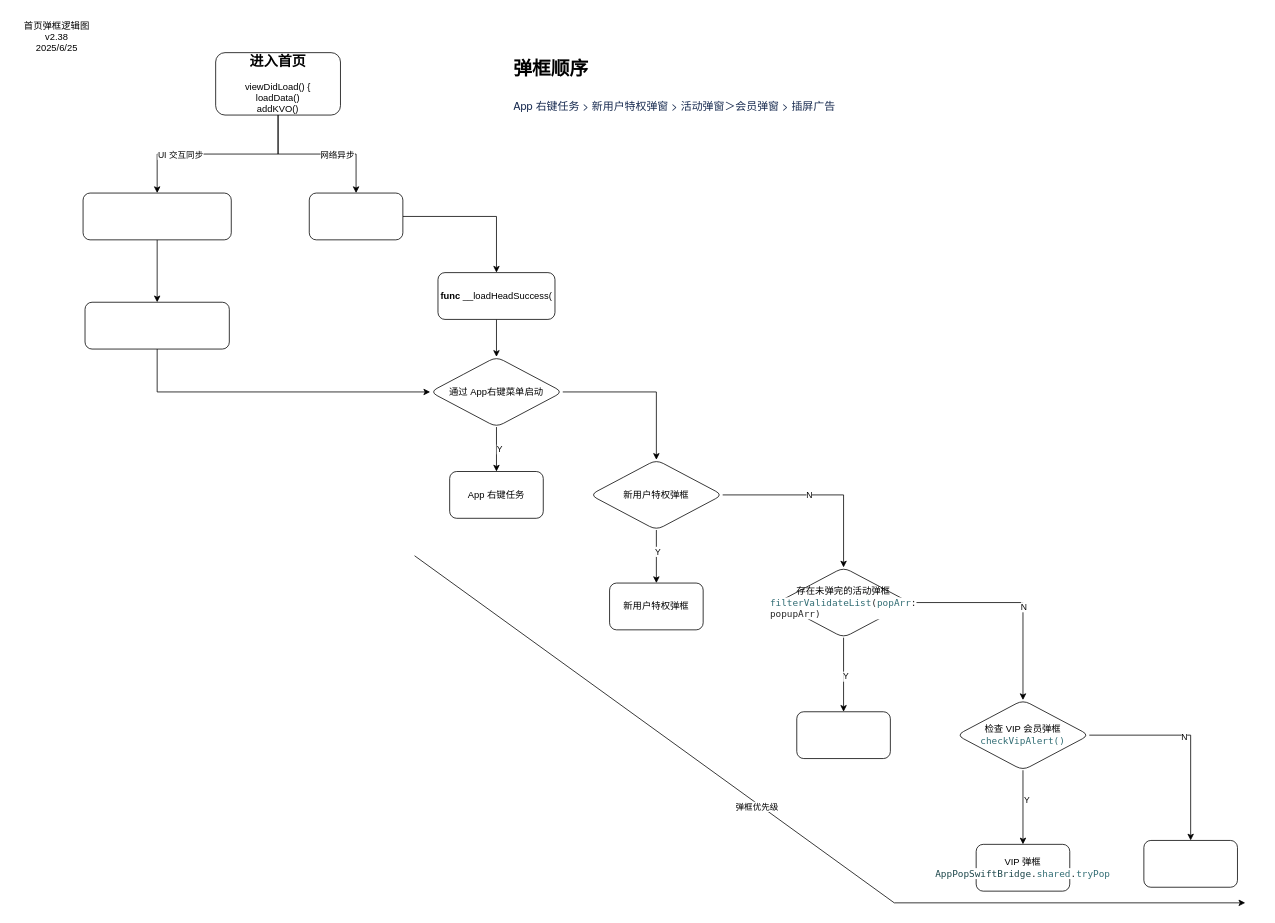
This 1275x923 diagram has some shape labels left out. Each missing label, with the box of its shape:
// 监听到页面切换到组件页面 override func observeValue ( forKeyPath: (82, 192, 231, 240)
按照优先级检查弹框 checkAllAlertByPriority (): (84, 301, 229, 349)
插屏广告 checkAdvertisementAlert (): (1143, 840, 1237, 887)
活动弹框: (796, 711, 890, 759)
请求 头部金刚区 请求 页面数据: (308, 192, 403, 240)
